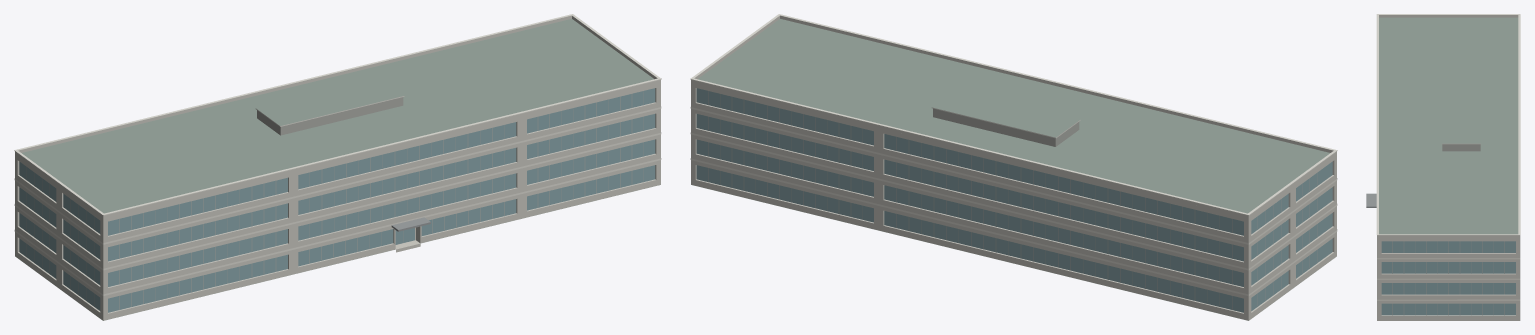
3 views of the same model, side by side, from view 1: azimuth 30°, elevation 25°; view 2: azimuth 150°, elevation 25°; view 3: azimuth 270°, elevation 25° (orthographic). The views are drawn at different scales.
Parts seen in each view (by area): view 1: seongho__roof, seongho__glass, seongho__wall, seongho__trim, seongho__parapet, seongho__frame, seongho__wall2; view 2: seongho__roof, seongho__glass, seongho__wall, seongho__trim, seongho__parapet, seongho__frame, seongho__wall2; view 3: seongho__roof, seongho__glass, seongho__wall, seongho__trim, seongho__parapet, seongho__frame, seongho__wall2, seongho__canopy.
Part boxes in pixels (x1,y1,x2,y2): seongho__roof: (16, 19, 659, 320); seongho__glass: (19, 88, 655, 312); seongho__wall: (15, 82, 660, 320); seongho__trim: (14, 14, 661, 295); seongho__parapet: (15, 15, 660, 217); seongho__frame: (26, 91, 643, 310); seongho__wall2: (257, 97, 403, 135); seongho__roof: (692, 19, 1335, 320); seongho__glass: (696, 88, 1332, 312); seongho__wall: (691, 82, 1336, 320); seongho__trim: (690, 14, 1337, 295); seongho__parapet: (691, 15, 1336, 217); seongho__frame: (708, 91, 1317, 309); seongho__wall2: (933, 108, 1079, 146); seongho__roof: (1379, 17, 1518, 234); seongho__glass: (1381, 241, 1515, 315); seongho__wall: (1377, 237, 1520, 320); seongho__trim: (1376, 14, 1520, 300); seongho__parapet: (1377, 15, 1520, 237); seongho__frame: (1392, 241, 1504, 315); seongho__wall2: (1442, 144, 1480, 151); seongho__canopy: (1366, 193, 1376, 207).
Size of the model in its own units: 82 by 16.2 by 24.22.
